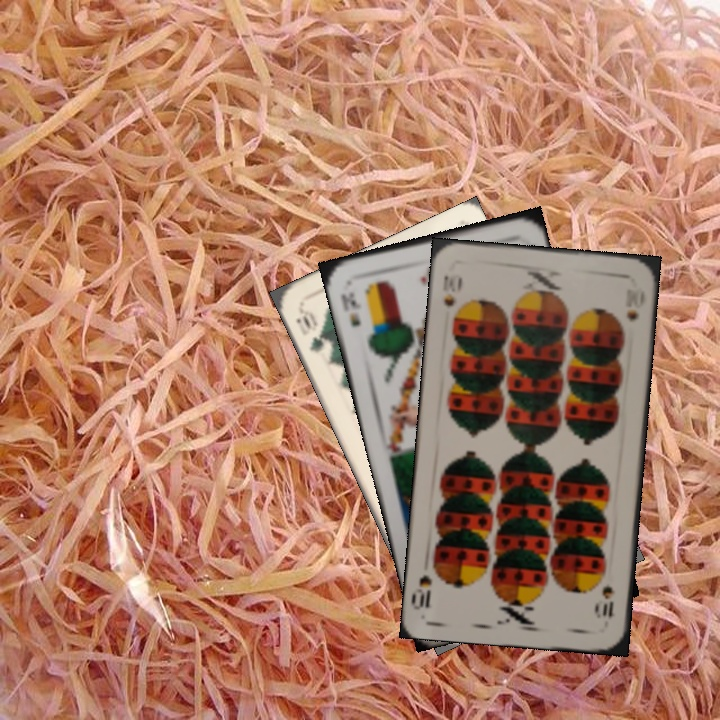EK: (337, 288, 363, 330)
G10: (294, 304, 328, 355)
S10: (595, 568, 617, 622), (439, 271, 464, 309)
